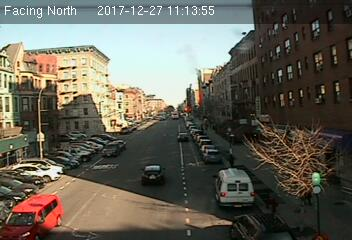car: (2, 192, 67, 238), (232, 211, 291, 240), (139, 165, 167, 184), (101, 143, 121, 157), (204, 150, 222, 162), (173, 132, 190, 142)
truck: (212, 167, 256, 210)
